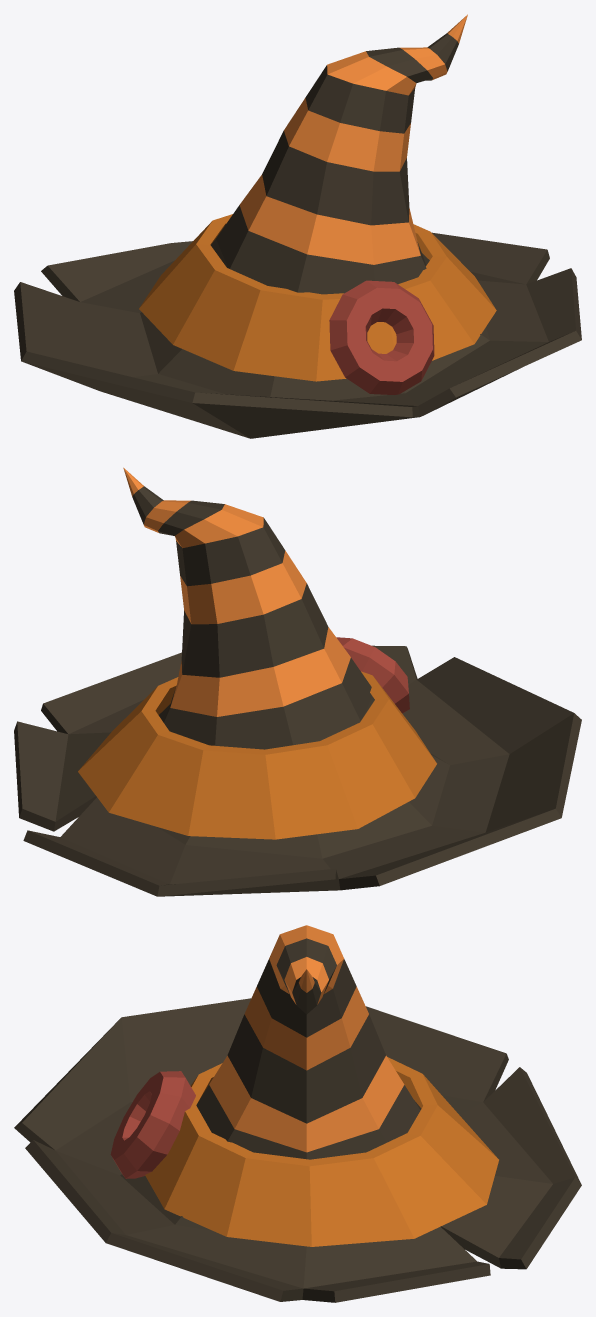
The model's file is WF_LP_HT_Props_Hat.002.fbx.
3 renders of one model, top to bottom at view 1: azimuth 30°, elevation 25°; view 2: azimuth 150°, elevation 25°; view 3: azimuth 270°, elevation 25°, orthographic. The views are drawn at different scales.
Parts seen in each view (by area): view 1: WF_LP_HT_Props_Hat.002; view 2: WF_LP_HT_Props_Hat.002; view 3: WF_LP_HT_Props_Hat.002.
Boxes of the visible parts, left/top/right/bottom form: WF_LP_HT_Props_Hat.002: left=14, top=14, right=581, bottom=438; WF_LP_HT_Props_Hat.002: left=14, top=467, right=581, bottom=896; WF_LP_HT_Props_Hat.002: left=14, top=925, right=581, bottom=1302.
Bounding box in the file's own units: 0.835 × 0.4522 × 0.7401.
